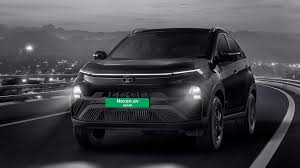Tata Nexon: (68, 25, 258, 156)
